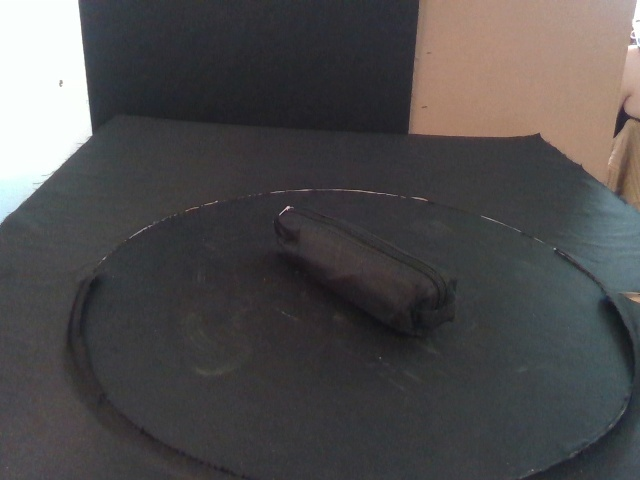pencil_case: (275, 204, 458, 335)
